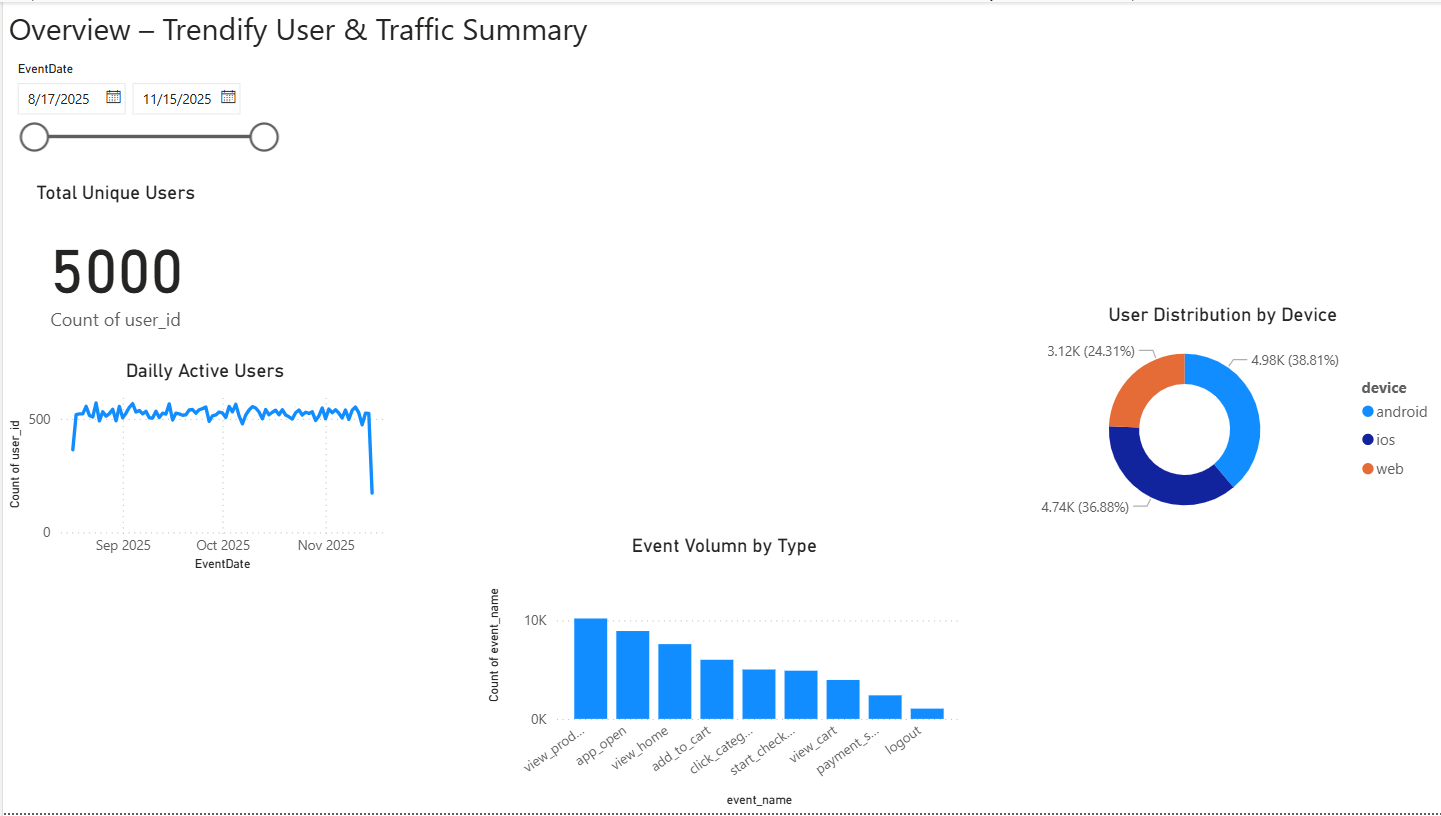

This screenshot's page, from the dashboard's own definition file:
{"tool":"powerbi","page":{"name":"Overview","canvas":[1280,720],"ordinal":0},"visuals":[{"type":"card","title":"Total Unique Users","fields":{"Values":["Count(event_log_trendify_clean.user_id)"]},"box":[0,158.7,200.2,149.1],"z":0},{"type":"lineChart","title":"Dailly Active Users","fields":{"Category":["event_log_trendify_clean.EventDate"],"Y":["Count(event_log_trendify_clean.user_id)"]},"box":[0,317.4,358.9,193],"z":1000},{"type":"donutChart","title":"User Distribution by Device","fields":{"Category":["event_log_trendify_clean.device"],"Y":["Count(event_log_trendify_clean.user_id)"]},"box":[887.6,267.2,392.4,205.8],"z":2000},{"type":"clusteredColumnChart","title":"Event Volumn by Type","fields":{"Category":["event_log_trendify_clean.event_name"],"Y":["CountNonNull(event_log_trendify_clean.event_name)"]},"box":[425.1,472.9,430.7,247.2],"z":3000},{"type":"textbox","box":[0,0,531.9,47.9],"z":4000},{"type":"slicer","fields":{"Values":["event_log_trendify_clean.EventDate"]},"box":[0,47.9,253.6,99.7],"z":5000}]}

Visuals, with their boxes in screenshot pixels (x1, y1, x2, y2), scaled from the page's 1280x720 canvas onto the 1441x816 screenshot:
"Total Unique Users" card: <region>0, 180, 225, 349</region>
"Dailly Active Users" lineChart: <region>0, 360, 404, 578</region>
"User Distribution by Device" donutChart: <region>999, 303, 1440, 536</region>
"Event Volumn by Type" clusteredColumnChart: <region>479, 536, 963, 815</region>
textbox: <region>0, 0, 599, 54</region>
slicer - event_log_trendify_clean.EventDate: <region>0, 54, 285, 167</region>
